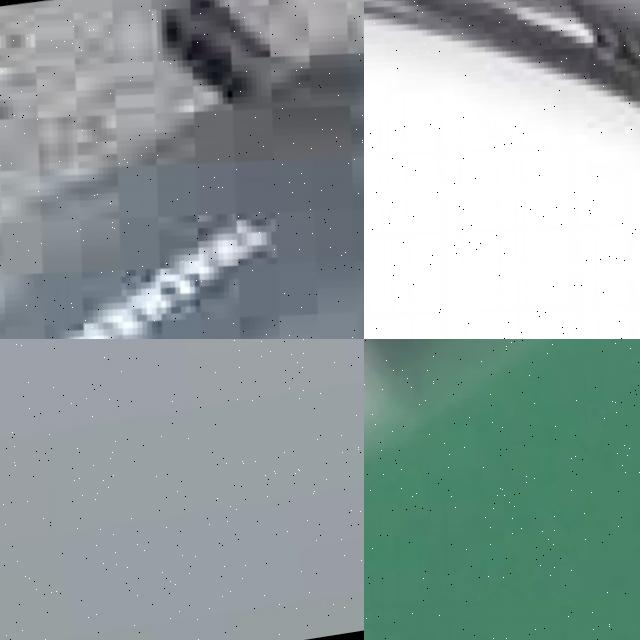0: (0, 0, 364, 339)
drone: (364, 0, 640, 339), (364, 339, 640, 640)
